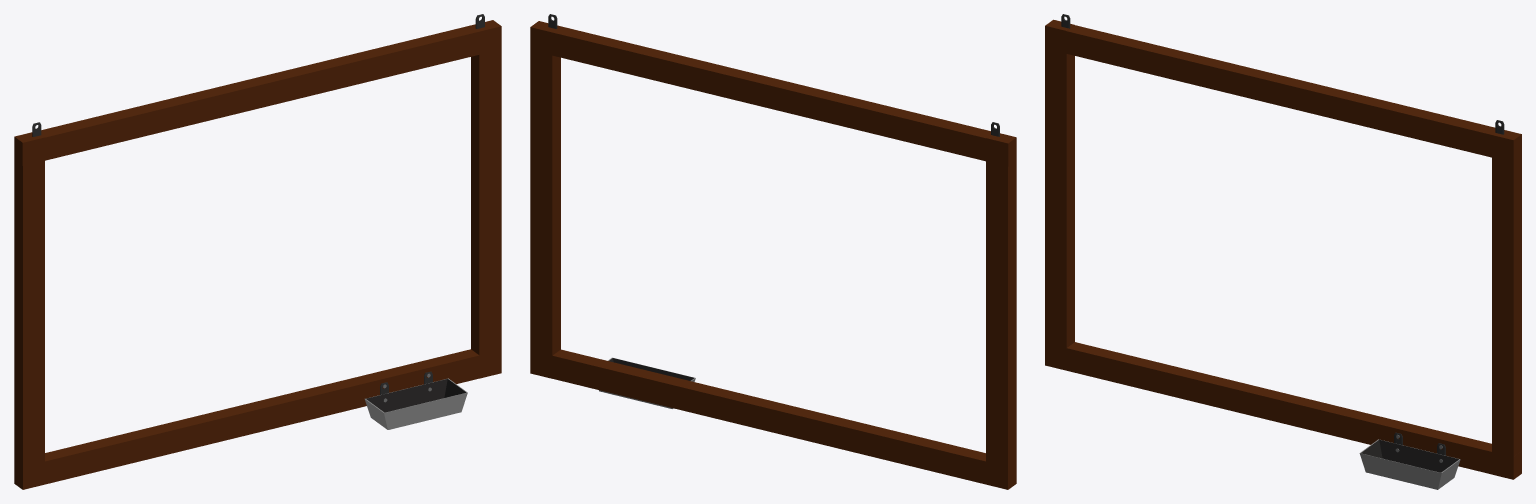
The model's file is lavagna.fbx.
The picture shows the model from 3 angles, left to right: view 1: azimuth 30°, elevation 25°; view 2: azimuth 150°, elevation 25°; view 3: azimuth 330°, elevation 25°; orthographic projection. The views are drawn at different scales.
Parts seen in each view (by area): view 1: lavagna.004; view 2: lavagna.004; view 3: lavagna.004.
Boxes of the visible parts, bbox=[...] form: lavagna.004: bbox=[14, 14, 501, 489]; lavagna.004: bbox=[530, 14, 1016, 489]; lavagna.004: bbox=[1045, 14, 1521, 489].
Bounding box in the file's own units: 130 × 96.24 × 13.34.
